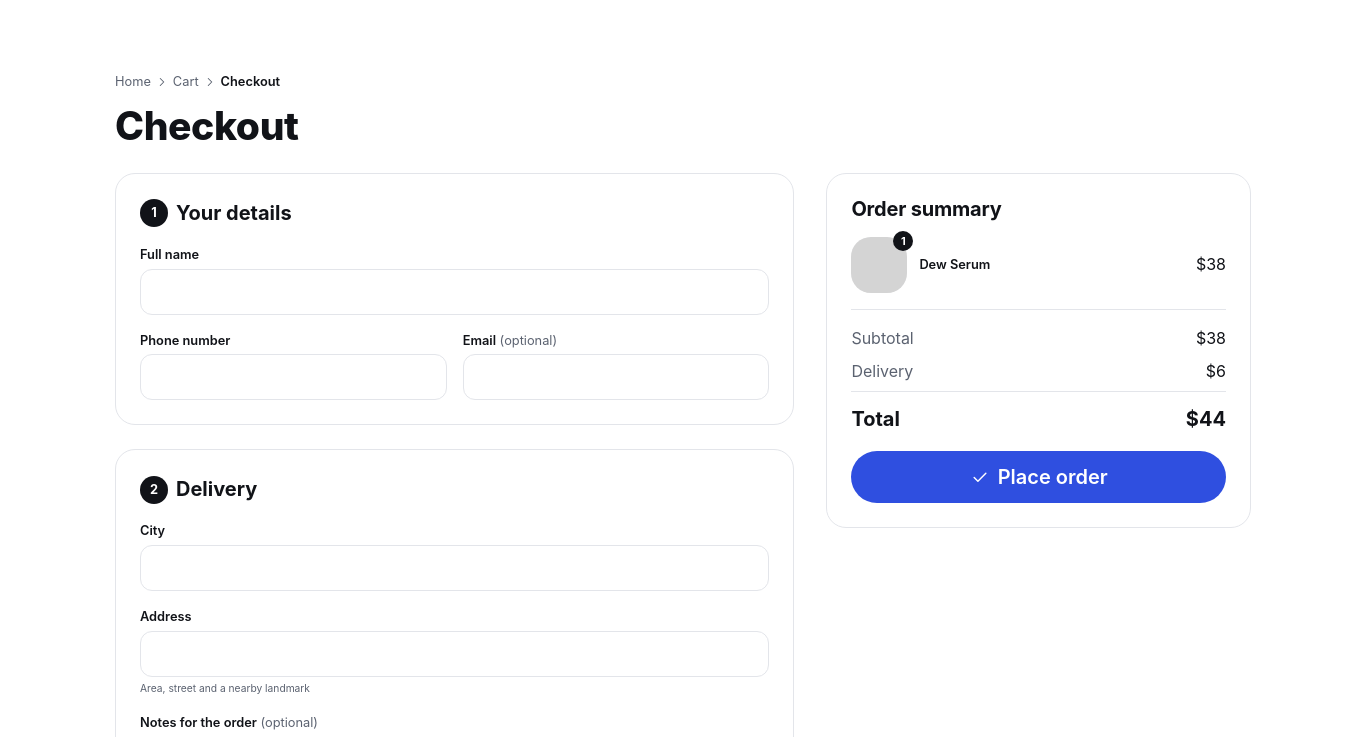
Scenario: checkout › points at every missing field instead of sending
Click the button "Place order". click: [1039, 477]
box: [851,451,1226,503]
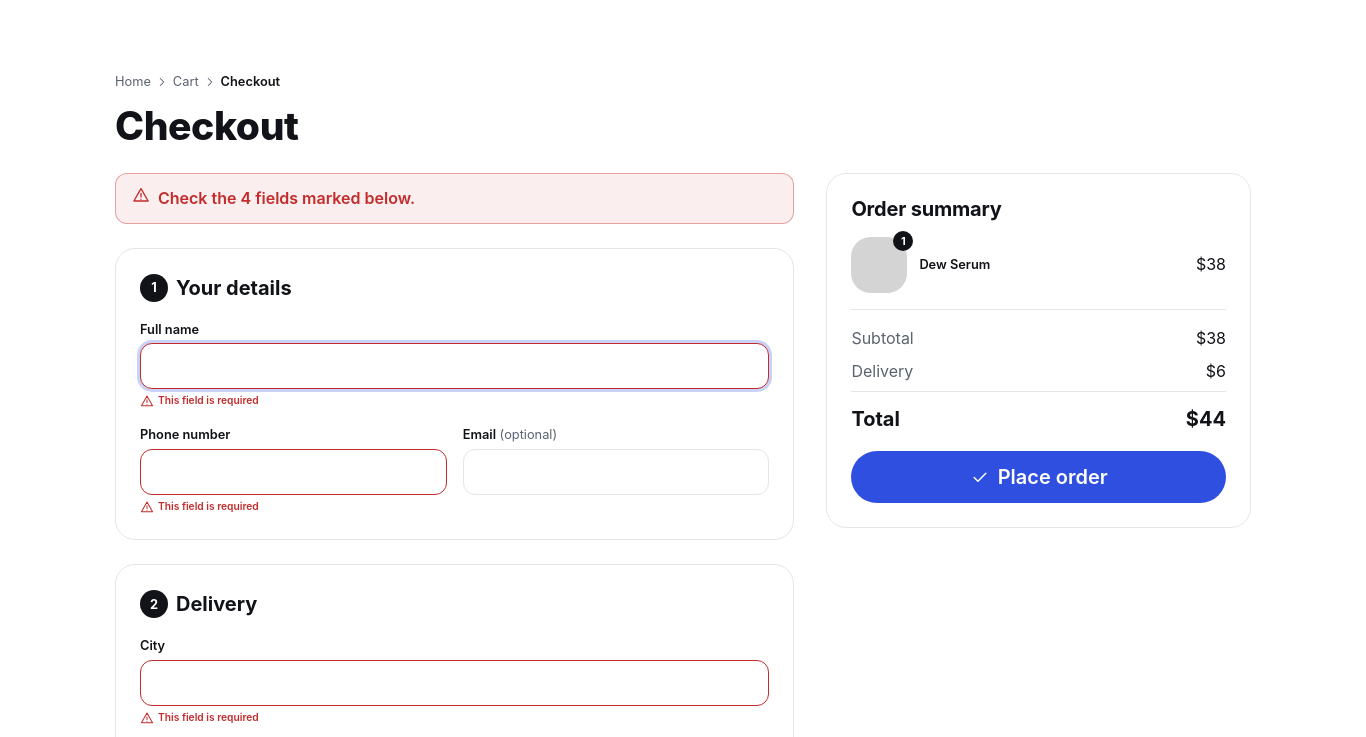
Result: the message reads "Check the 4 fields marked below." at [158,188,415,208]
